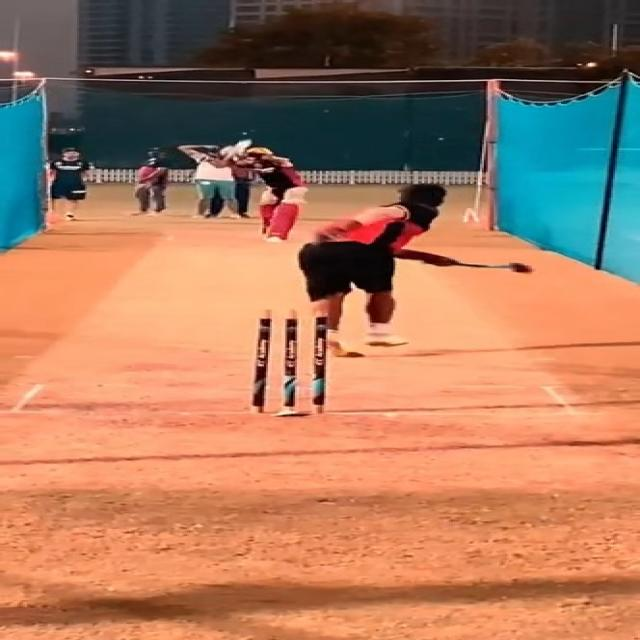batsman: (224, 138, 310, 243)
